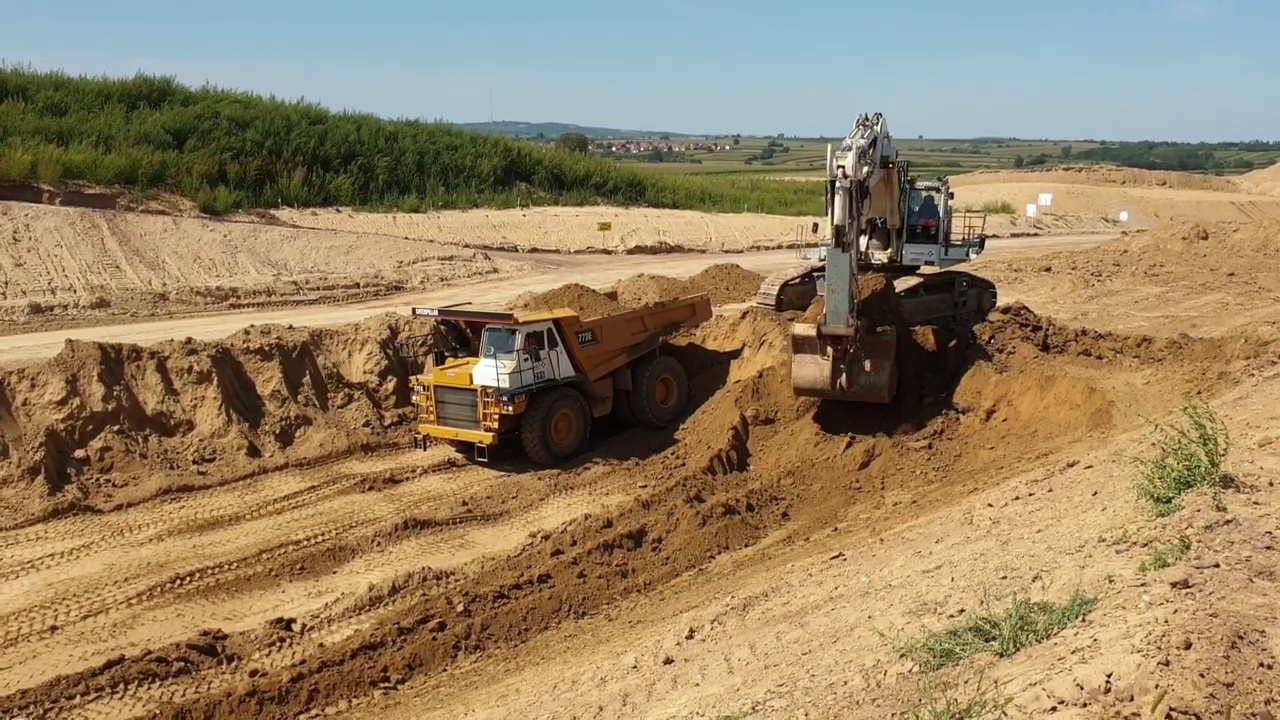excavator: (753, 103, 999, 414)
truck: (411, 290, 722, 472)
